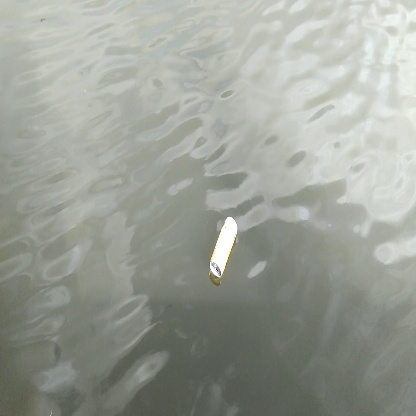bottle: (207, 213, 244, 286)
